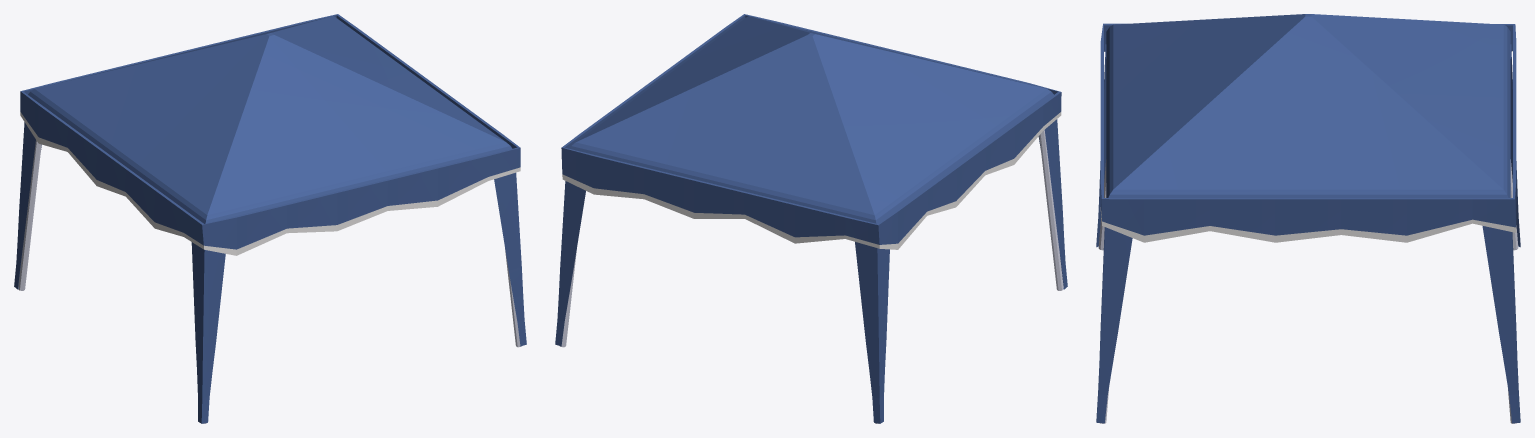
Rendered from beach-parasol.glb.
3 views of the same model, side by side, from view 1: azimuth 30°, elevation 25°; view 2: azimuth 150°, elevation 25°; view 3: azimuth 270°, elevation 25° (orthographic). The views are drawn at different scales.
Parts seen in each view (by area): view 1: Cube.001; view 2: Cube.001; view 3: Cube.001.
Boxes of the visible parts, x1,y1,x2,y2 form: Cube.001: (14,14,526,423); Cube.001: (555,14,1067,423); Cube.001: (1096,14,1520,423).
Size of the model in its own units: 68792 by 57327 by 68731.
1 material, 1 textured.
